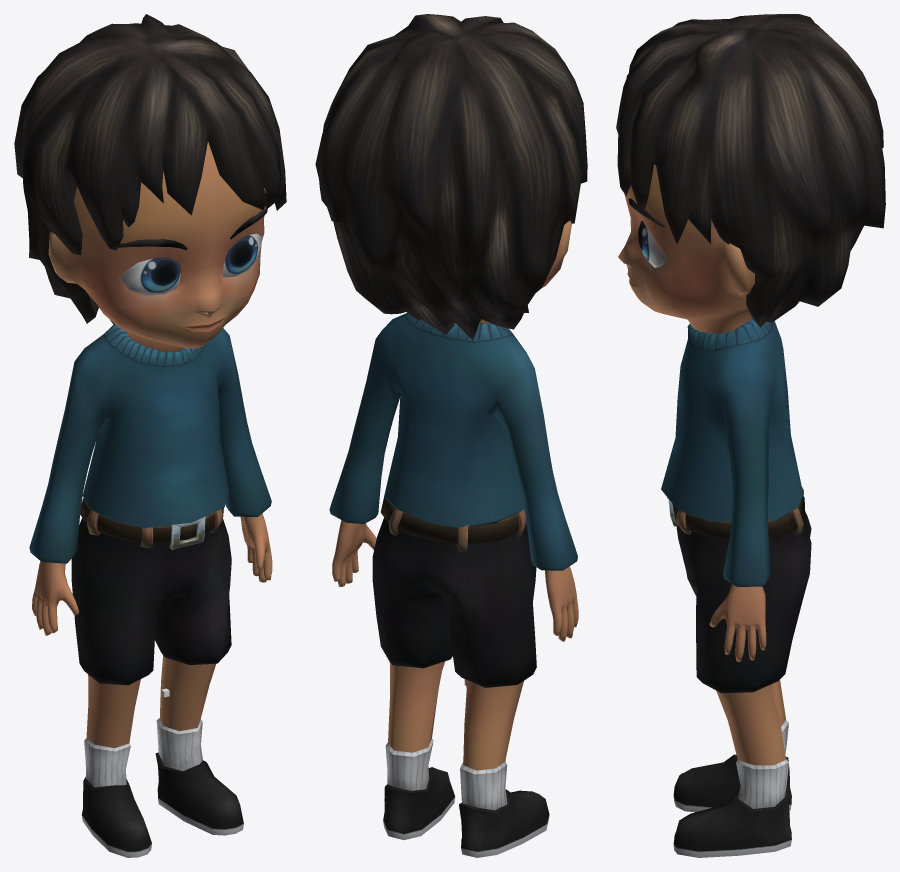
Rendered from Boy.glb.
The picture shows the model from 3 angles, left to right: view 1: azimuth 30°, elevation 25°; view 2: azimuth 150°, elevation 25°; view 3: azimuth 270°, elevation 25°; orthographic projection. The views are drawn at different scales.
Visible parts, largest first — view 1: boy; view 2: boy; view 3: boy.
Boxes of the visible parts, x1,y1,x2,y2 form: boy: (14, 14, 286, 857); boy: (315, 14, 587, 857); boy: (616, 14, 885, 857).
Bounding box in the file's own units: 0.7238 × 2.35 × 0.7145.
Materials: 2 (1 with a texture image).
